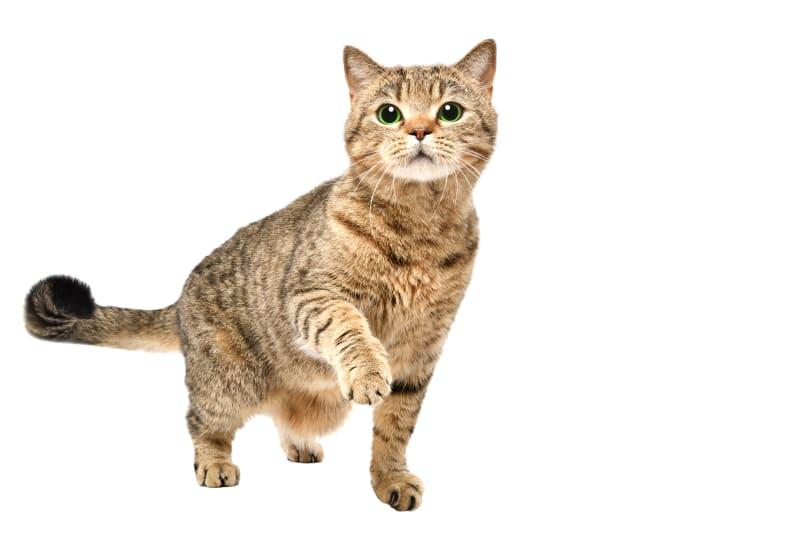fracture: (276, 257, 411, 430)
